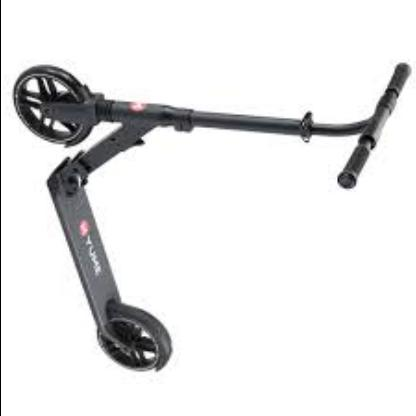bike: (13, 58, 416, 376)
